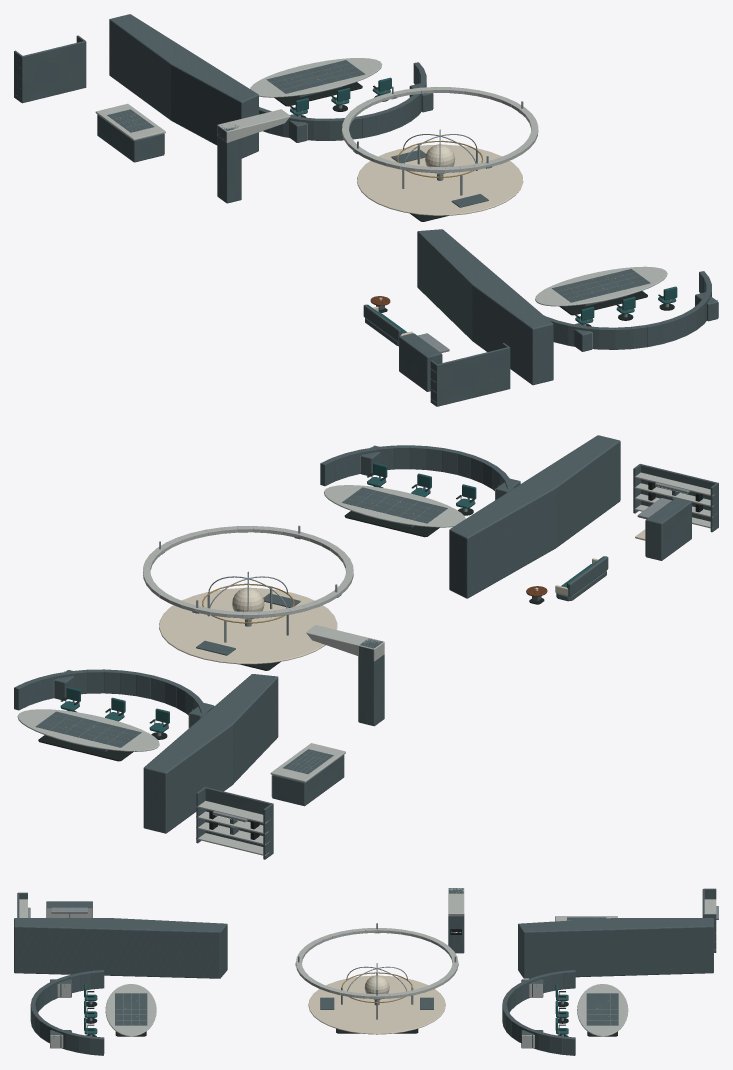
The model's file is D18_directory_04.glb.
3 renders of one model, top to bottom at view 1: azimuth 30°, elevation 25°; view 2: azimuth 150°, elevation 25°; view 3: azimuth 270°, elevation 25°, orthographic. The views are drawn at different scales.
Visible parts, largest first — view 1: A_SouthServiceBlade, A_NorthRecordBlade, A_SolarStudy_top, A_RevisionHandover_back, A_ProjectArchive_back, A_AftConsult_top, A_ForeConsult_top, A_ProjectEntryPier, A_SolarCare_carcass, A_ForeStudy_field, A_AftStudy_field, A_PlanDrawers_carcass (+2 smaller); view 2: A_SouthServiceBlade, A_NorthRecordBlade, A_SolarStudy_top, A_SolarCare_carcass, A_ProjectEntryPier, A_ForeConsult_top, A_AftConsult_top, A_AftStudy_field, A_ForeStudy_field, A_PlanDrawers_carcass, A_ProjectEntryBrow, A_ProjectArchive_back (+6 smaller); view 3: A_SouthServiceBlade, A_NorthRecordBlade, A_SolarStudy_top, A_ForeConsult_top, A_AftConsult_top, A_ForeStudy_field, A_AftStudy_field, A_ProjectEntryPier, A_ProjectEntryBrow, A_StudyStar, A_SolarCare_carcass.
Part boxes in pixels (bbox=[...]): A_SouthServiceBlade: bbox=[417, 229, 553, 385]; A_NorthRecordBlade: bbox=[109, 14, 258, 158]; A_SolarStudy_top: bbox=[357, 144, 523, 215]; A_RevisionHandover_back: bbox=[436, 347, 510, 406]; A_ProjectArchive_back: bbox=[21, 41, 86, 103]; A_AftConsult_top: bbox=[535, 266, 667, 306]; A_ForeConsult_top: bbox=[250, 58, 382, 97]; A_ProjectEntryPier: bbox=[217, 123, 241, 203]; A_SolarCare_carcass: bbox=[399, 333, 441, 391]; A_ForeStudy_field: bbox=[266, 60, 365, 93]; A_AftStudy_field: bbox=[552, 269, 650, 302]; A_PlanDrawers_carcass: bbox=[97, 114, 164, 162]; A_SouthServiceBlade: bbox=[449, 435, 620, 598]; A_NorthRecordBlade: bbox=[143, 674, 278, 833]; A_SolarStudy_top: bbox=[159, 588, 337, 664]; A_SolarCare_carcass: bbox=[645, 498, 691, 560]; A_ProjectEntryPier: bbox=[358, 638, 384, 726]; A_ForeConsult_top: bbox=[17, 709, 159, 751]; A_AftConsult_top: bbox=[324, 485, 465, 527]; A_AftStudy_field: bbox=[342, 487, 447, 523]; A_ForeStudy_field: bbox=[35, 711, 141, 747]; A_PlanDrawers_carcass: bbox=[272, 755, 344, 806]; A_ProjectEntryBrow: bbox=[306, 625, 384, 661]; A_ProjectArchive_back: bbox=[204, 787, 273, 853]; A_SouthServiceBlade: bbox=[14, 918, 227, 978]; A_NorthRecordBlade: bbox=[518, 918, 713, 978]; A_SolarStudy_top: bbox=[308, 975, 445, 1034]; A_ForeConsult_top: bbox=[577, 984, 628, 1036]; A_AftConsult_top: bbox=[105, 984, 156, 1036]; A_ForeStudy_field: bbox=[586, 993, 618, 1025]; A_AftStudy_field: bbox=[115, 993, 147, 1025]; A_ProjectEntryPier: bbox=[448, 888, 464, 953]; A_ProjectEntryBrow: bbox=[448, 888, 464, 916]; A_StudyStar: bbox=[364, 975, 389, 999]; A_SolarCare_carcass: bbox=[46, 901, 92, 917].
Bounding box in the file's own units: 20.82 × 4.5 × 48.14.
Materials: 9 (9 with a texture image).
